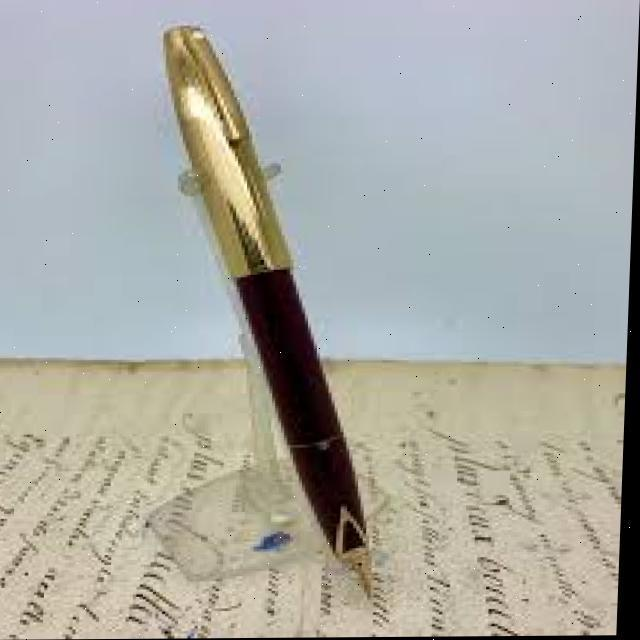Pen - Non Recyclable: (141, 20, 399, 597)
